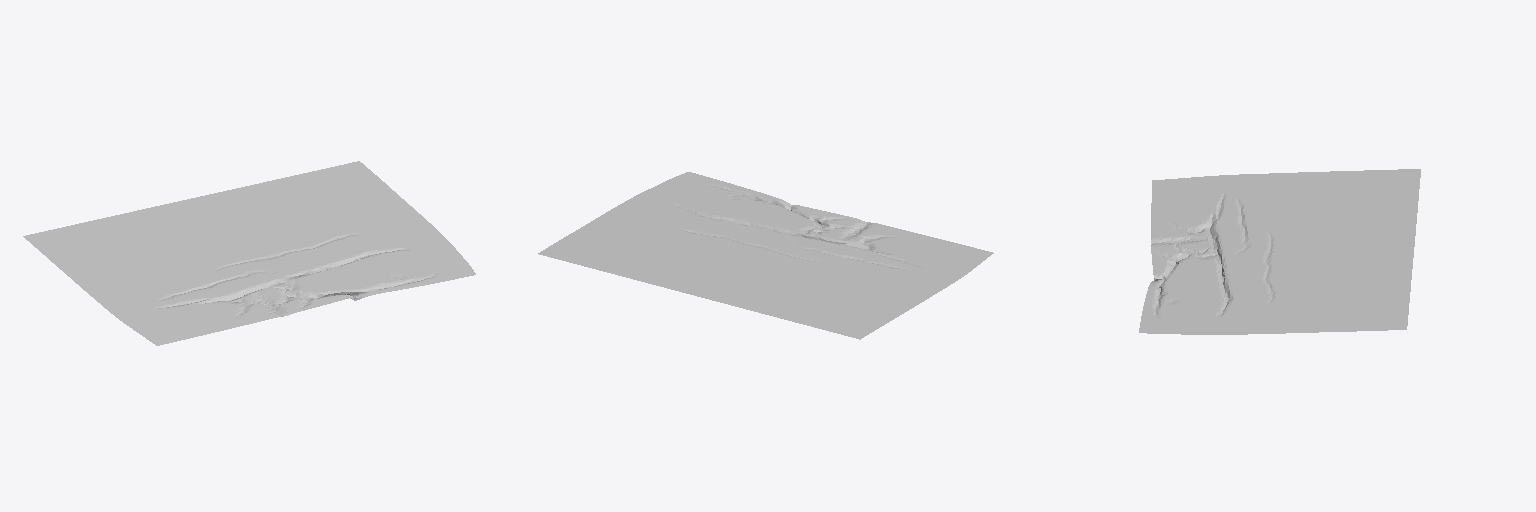
The model's file is carpet.obj.
3 views of the same model, side by side, from view 1: azimuth 30°, elevation 25°; view 2: azimuth 150°, elevation 25°; view 3: azimuth 270°, elevation 25° (orthographic).
Parts seen in each view (by area): view 1: carpet:object_1; view 2: carpet:object_1; view 3: carpet:object_1.
Part boxes in pixels (left/top/right/bottom): carpet:object_1: left=23, top=161, right=475, bottom=345; carpet:object_1: left=538, top=172, right=993, bottom=339; carpet:object_1: left=1139, top=169, right=1420, bottom=334.
Size of the model in its own units: 4.94 by 0.2202 by 3.62.